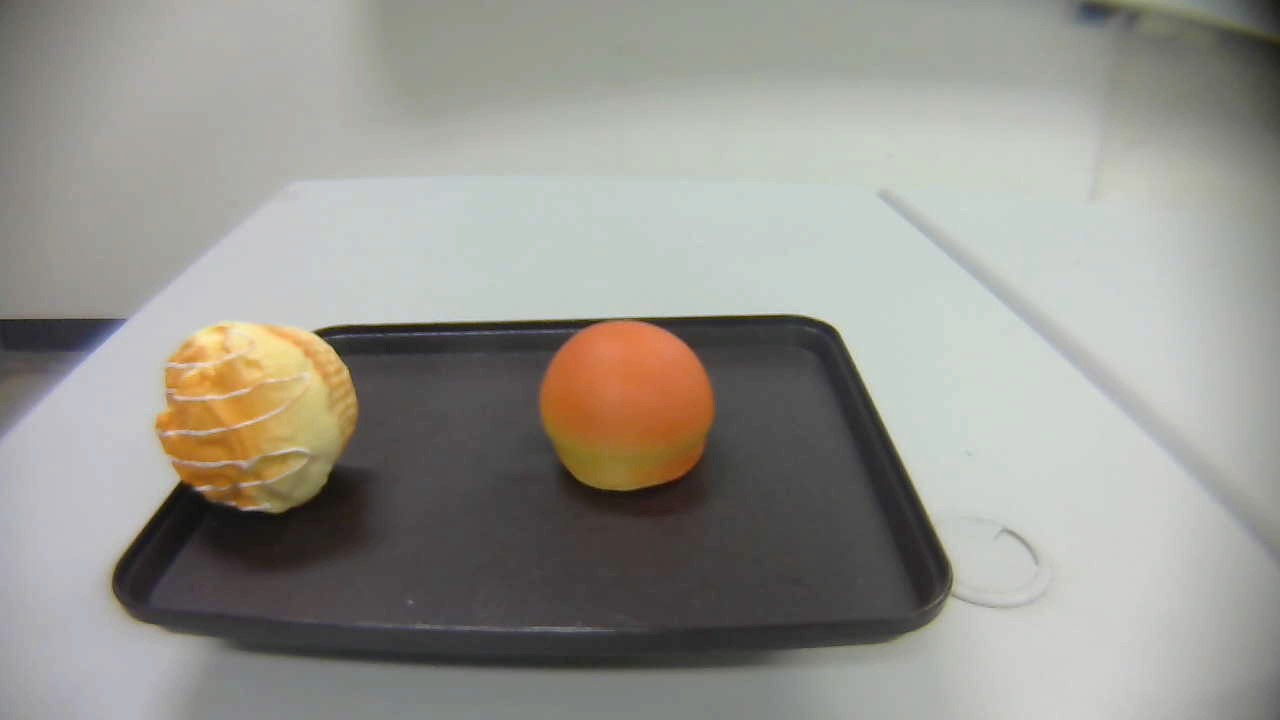bun: (539, 318, 715, 492)
cupcake: (156, 319, 358, 514)
